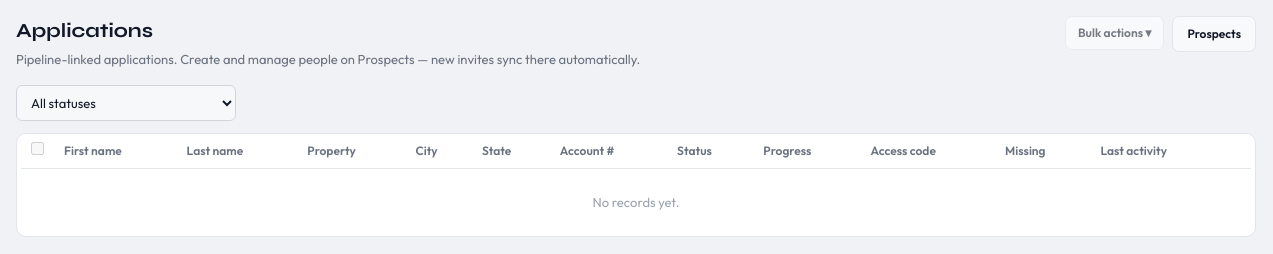
Test: ApplicationsModule › hides archived applications until the Archived filter is selected
This screenshot has width=1273, height=254.
Expected: the text "Kai" is not shown
Select "Archived" in the dropdown named "Filter applications": (126, 103) [16,85,236,121]
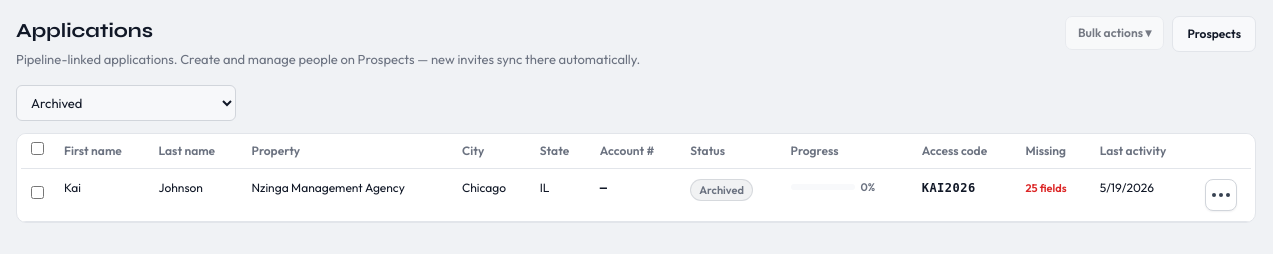
Expected: the text "Kai" is shown, [54,169,148,222]
